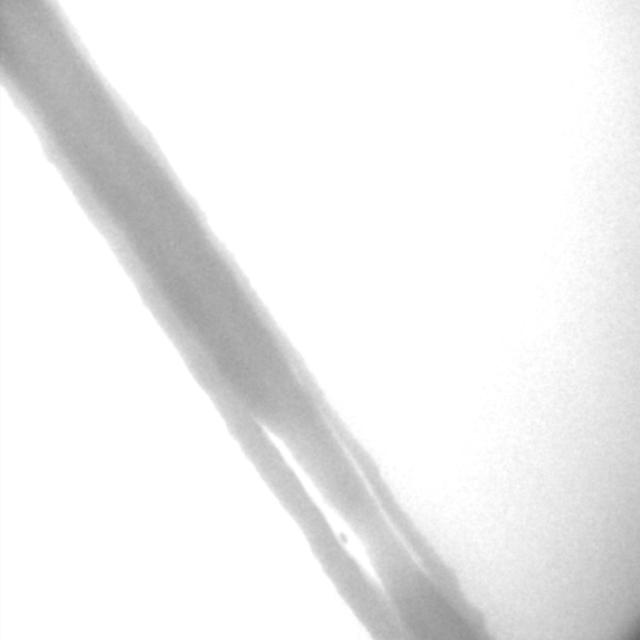unfused: (258, 413, 426, 592)
